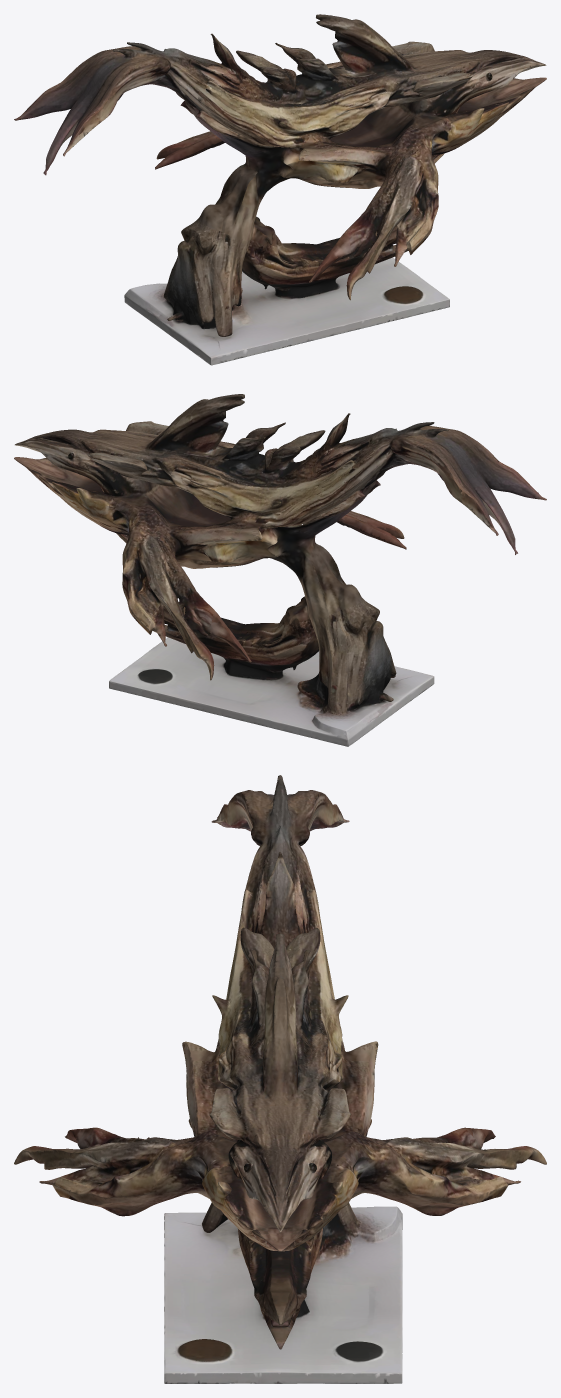
The model's file is CaHeo-v1.glb.
The picture shows the model from 3 angles, top to bottom: view 1: azimuth 30°, elevation 25°; view 2: azimuth 150°, elevation 25°; view 3: azimuth 270°, elevation 25°; orthographic projection. The views are drawn at different scales.
Visible parts, largest first — view 1: tripo_node_4b796ba2-c1b8-4e81-b2ff-fb5c3cac07fb; view 2: tripo_node_4b796ba2-c1b8-4e81-b2ff-fb5c3cac07fb; view 3: tripo_node_4b796ba2-c1b8-4e81-b2ff-fb5c3cac07fb.
Boxes of the visible parts, bbox=[...] form: tripo_node_4b796ba2-c1b8-4e81-b2ff-fb5c3cac07fb: bbox=[14, 14, 546, 365]; tripo_node_4b796ba2-c1b8-4e81-b2ff-fb5c3cac07fb: bbox=[14, 394, 546, 746]; tripo_node_4b796ba2-c1b8-4e81-b2ff-fb5c3cac07fb: bbox=[14, 775, 546, 1383].
Size of the model in its own units: 1 by 0.5696 by 0.6599.
Materials: 1 (1 with a texture image).
